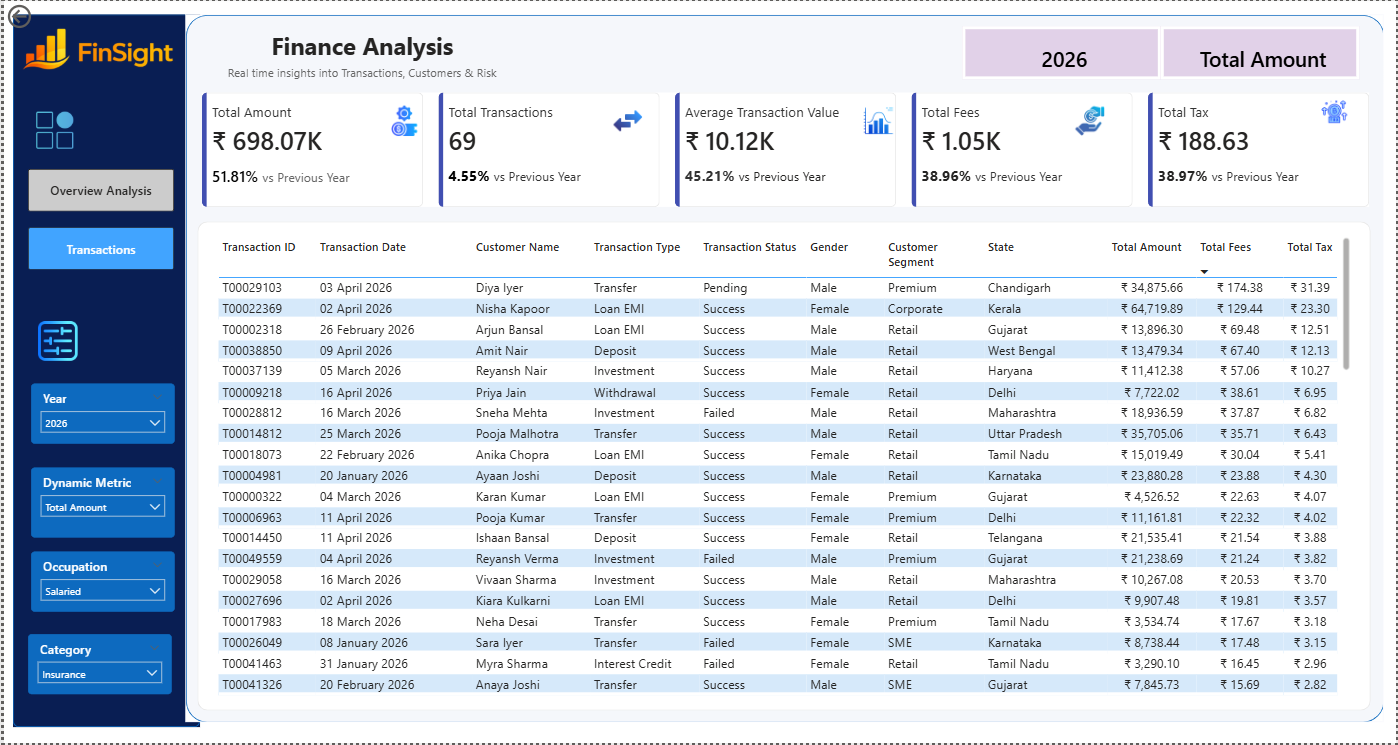

The dashboard page shown, as its layout file describes it:
{"tool":"powerbi","page":{"name":"Transactions","canvas":[1800,960],"ordinal":1},"visuals":[{"type":"shape","box":[10.8,17.3,241.8,921.9],"z":0},{"type":"shape","box":[235.3,17.3,1550.1,915.4],"z":1000},{"type":"image","box":[10.8,17.3,224.5,90.7],"z":2000},{"type":"card","fields":{"Values":["finance_transactions.Dashboard Title"]},"box":[256.9,19.4,414.5,99.3],"z":3000},{"type":"cardVisual","fields":{"Data":["finance_transactions.Total Amount","finance_transactions.Total Transactions","finance_transactions.Average Transaction Value","finance_transactions.Total Fees","finance_transactions.Total Tax"]},"box":[256.9,118.7,1513.4,149],"z":4000},{"type":"actionButton","box":[0,0,100,40],"z":5000},{"type":"image","box":[541.9,116.6,50,50],"z":6000},{"type":"image","box":[831.2,116.6,50,50],"z":7000},{"type":"image","box":[1429.2,116.6,49.7,49.7],"z":8000},{"type":"image","box":[1129.1,118.7,49.7,49.7],"z":9000},{"type":"image","box":[1720.7,116.6,49.7,50],"z":10000},{"type":"image","box":[492.2,129.5,49.7,49.7],"z":11000},{"type":"image","box":[781.5,129.5,49.7,49.7],"z":12000},{"type":"image","box":[1105.4,129.5,49.7,49.7],"z":13000},{"type":"image","box":[1379.6,129.5,49.7,49.7],"z":14000},{"type":"image","box":[1697,118.7,49.7,49.7],"z":15000},{"type":"shape","box":[250.4,285,1517.8,632.6],"z":16000},{"type":"cardVisual","fields":{"Data":["finance_transactions.Selected Year","finance_transactions.Selected Dynamic Measure"]},"box":[1226.3,28.1,541.9,79.9],"z":17000},{"type":"tableEx","fields":{"Values":["finance_transactions.transaction_id","finance_transactions.transaction_date","customers.customer_name","finance_transactions.transaction_type","finance_transactions.transaction_status","customers.gender","customers.customer_segment","customers.state","finance_transactions.Total Amount","finance_transactions.Total Fees","finance_transactions.Total Tax"]},"box":[272,300.1,1474.6,602.4],"z":18000},{"type":"slicer","fields":{"Values":["Calendar Table.Year"]},"box":[34.5,494.4,185.7,77.7],"z":19000},{"type":"slicer","fields":{"Values":["Dynamic Metric.Dynamic Metric"]},"box":[34.5,604.5,185.7,90.7],"z":20000},{"type":"slicer","fields":{"Values":["customers.occupation"]},"box":[34.5,712.5,185.7,77.7],"z":21000},{"type":"slicer","fields":{"Values":["finance_transactions.merchant_category"]},"box":[30.2,818.3,185.7,77.7],"z":22000},{"type":"pageNavigator","box":[30.2,218.1,190,131.7],"z":23000},{"type":"image","box":[30.2,138.2,69.1,58.3],"z":24000},{"type":"image","box":[34.5,399.4,69.1,79.9],"z":25000}]}

Visuals, with their boxes on the page's 1800x960 design canvas (x1, y1, x2, y2). These are canvas units, not pixel positions in the 1398x745 screenshot, which may show the page scaled, cropped or inside an application window:
shape: l=11, t=17, r=253, b=939
shape: l=235, t=17, r=1785, b=933
image: l=11, t=17, r=235, b=108
card - finance_transactions.Dashboard Title: l=257, t=19, r=671, b=119
cardVisual - finance_transactions.Total Amount x finance_transactions.Total Transactions: l=257, t=119, r=1770, b=268
actionButton: l=0, t=0, r=100, b=40
image: l=542, t=117, r=592, b=167
image: l=831, t=117, r=881, b=167
image: l=1429, t=117, r=1479, b=166
image: l=1129, t=119, r=1179, b=168
image: l=1721, t=117, r=1770, b=167
image: l=492, t=130, r=542, b=179
image: l=782, t=130, r=831, b=179
image: l=1105, t=130, r=1155, b=179
image: l=1380, t=130, r=1429, b=179
image: l=1697, t=119, r=1747, b=168
shape: l=250, t=285, r=1768, b=918
cardVisual - finance_transactions.Selected Year x finance_transactions.Selected Dynamic Measure: l=1226, t=28, r=1768, b=108
tableEx - finance_transactions.transaction_id x finance_transactions.transaction_date: l=272, t=300, r=1747, b=902
slicer - Calendar Table.Year: l=34, t=494, r=220, b=572
slicer - Dynamic Metric.Dynamic Metric: l=34, t=604, r=220, b=695
slicer - customers.occupation: l=34, t=712, r=220, b=790
slicer - finance_transactions.merchant_category: l=30, t=818, r=216, b=896
pageNavigator: l=30, t=218, r=220, b=350
image: l=30, t=138, r=99, b=196
image: l=34, t=399, r=104, b=479
